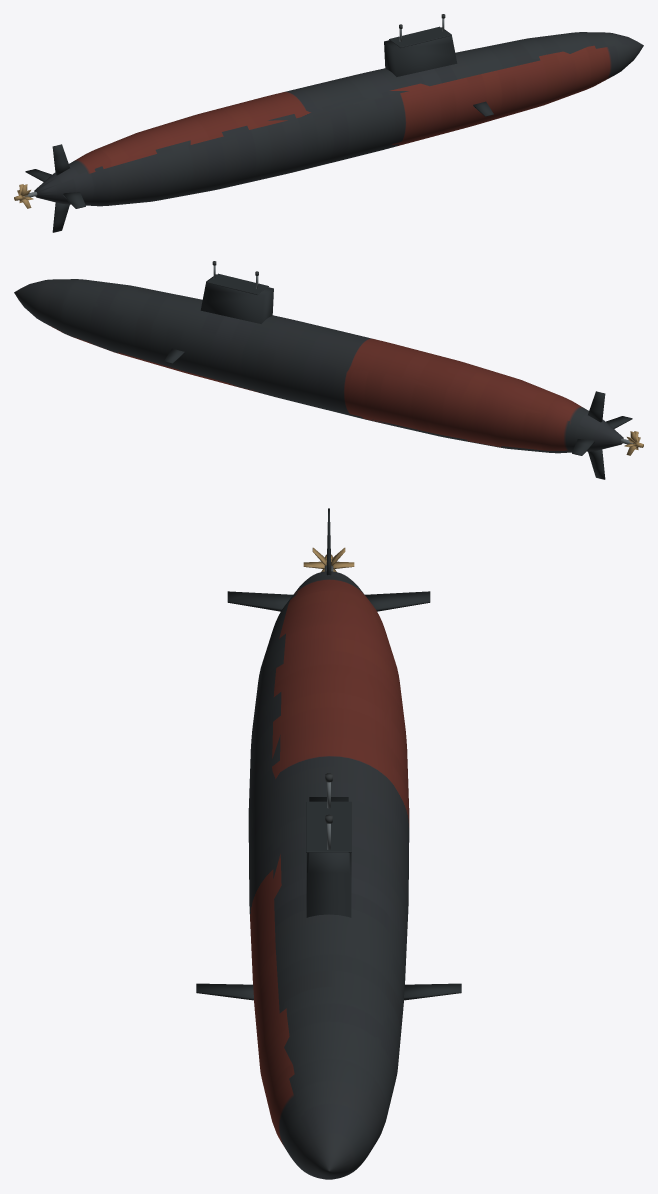
File: RU_SSN_Sierra_LOD1.fbx
3 renders of one model, top to bottom at view 1: azimuth 30°, elevation 25°; view 2: azimuth 150°, elevation 25°; view 3: azimuth 270°, elevation 25°, orthographic. The views are drawn at different scales.
Parts seen in each view (by area): view 1: RU_SSN_Sierra_LOD1; view 2: RU_SSN_Sierra_LOD1; view 3: RU_SSN_Sierra_LOD1.
Boxes of the visible parts, x1=… form: RU_SSN_Sierra_LOD1: x1=14, y1=14, x2=643, y2=232; RU_SSN_Sierra_LOD1: x1=14, y1=261, x2=643, y2=479; RU_SSN_Sierra_LOD1: x1=196, y1=508, x2=461, y2=1179.
Bounding box in the file's own units: 111 × 20.24 × 20.66.
Materials: 6 (1 with a texture image).
